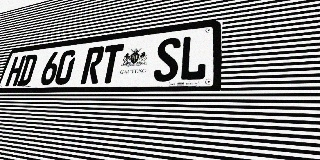0: (53, 49, 77, 85)
6: (39, 51, 62, 85)
D: (16, 54, 38, 86)
H: (5, 55, 26, 86)
L: (178, 34, 208, 81)
R: (80, 46, 105, 84)
S: (153, 37, 181, 82)
T: (98, 44, 124, 84)
